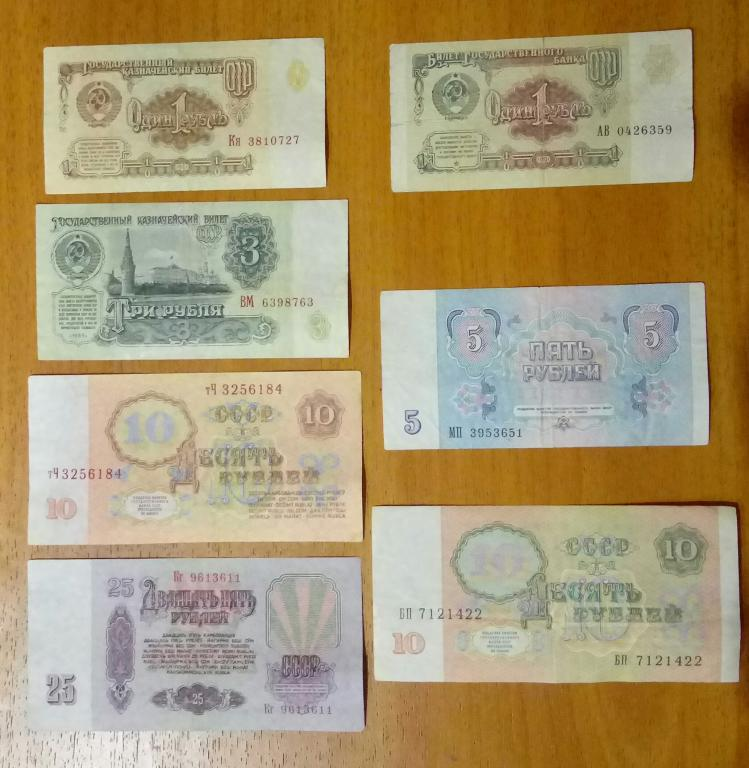cash: (372, 503, 741, 684), (27, 371, 364, 545), (26, 559, 364, 731), (380, 282, 711, 453), (35, 202, 350, 360), (389, 30, 692, 192), (44, 36, 326, 195)
